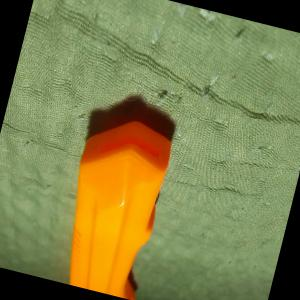estilete: (50, 110, 177, 300)
